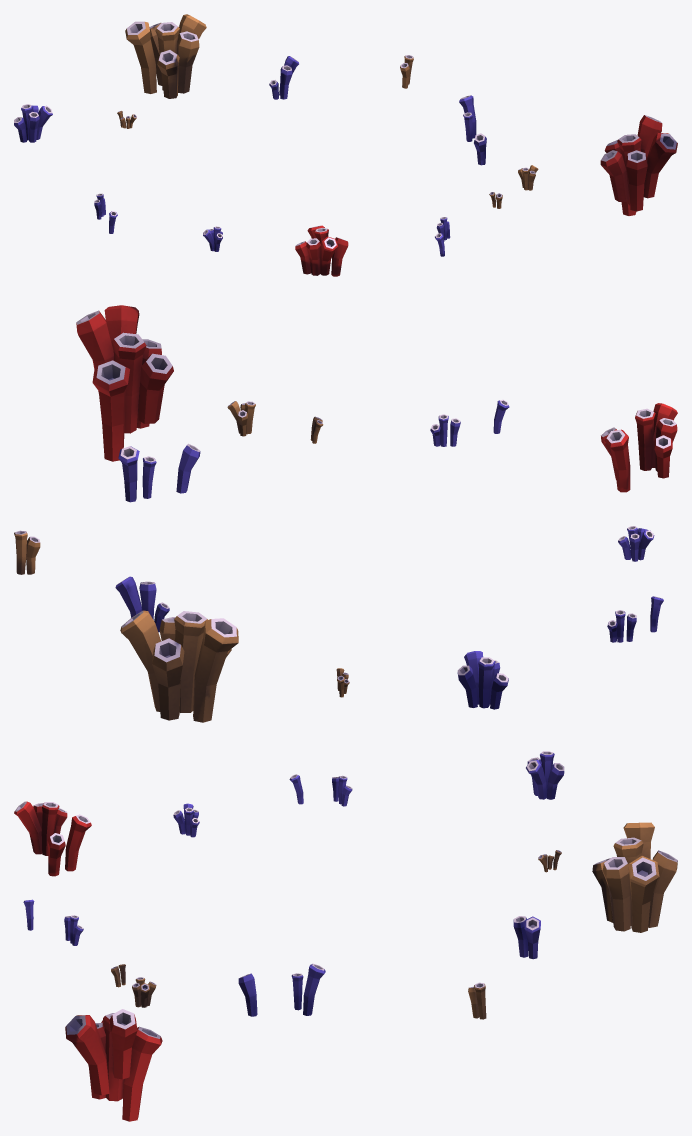
The model's file is Plant_01.FBX.
3 renders of one model, top to bottom at view 1: azimuth 30°, elevation 25°; view 2: azimuth 150°, elevation 25°; view 3: azimuth 270°, elevation 25°, orthographic. The views are drawn at different scales.
Visible parts, largest first — view 1: Plant_01; view 2: Plant_01; view 3: Plant_01.
Part boxes in pixels (box(x1,y1,x2,y2)): Plant_01: box(14, 14, 677, 276); Plant_01: box(14, 305, 677, 722); Plant_01: box(14, 751, 677, 1121).
Size of the model in its own units: 27.17 by 5.74 by 26.55.
